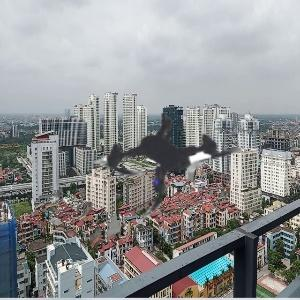drone: (58, 49, 286, 277)
